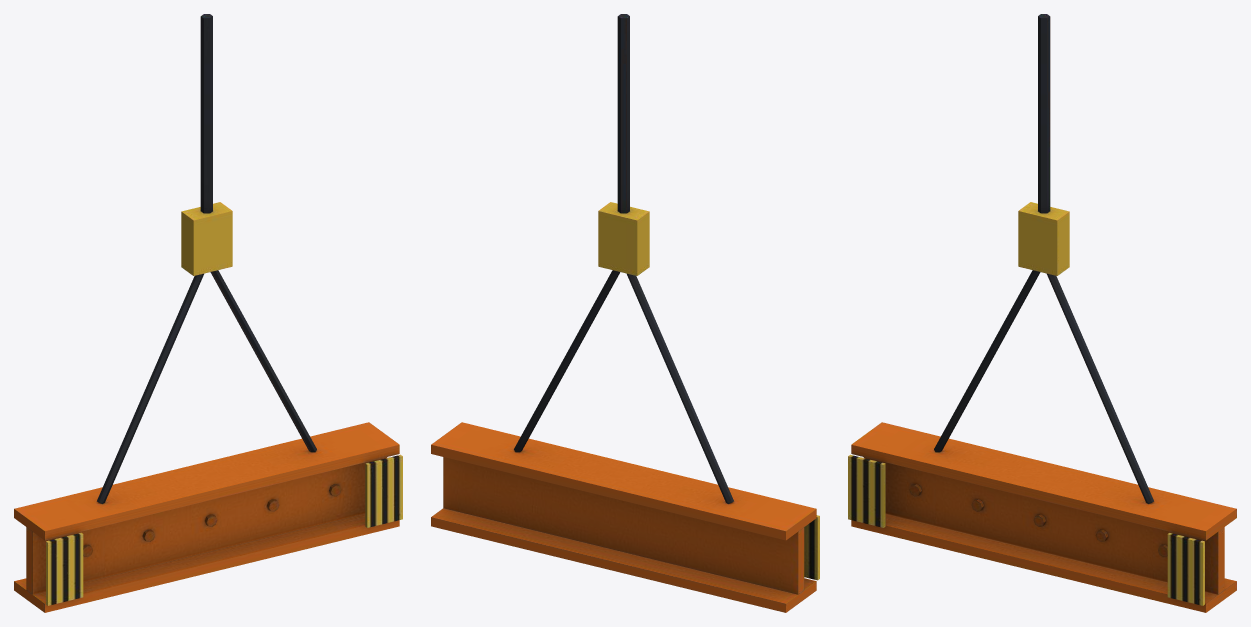
The model's file is viga.glb.
3 views of the same model, side by side, from view 1: azimuth 30°, elevation 25°; view 2: azimuth 150°, elevation 25°; view 3: azimuth 330°, elevation 25° (orthographic).
Visible parts, largest first — view 1: viga; view 2: viga; view 3: viga.
Part boxes in pixels (x1,y1,x2,y2): viga: (14, 14, 402, 612); viga: (431, 14, 819, 612); viga: (848, 14, 1236, 612).
Size of the model in its own units: 2 by 2.92 by 0.33.
Materials: 1 (1 with a texture image).
